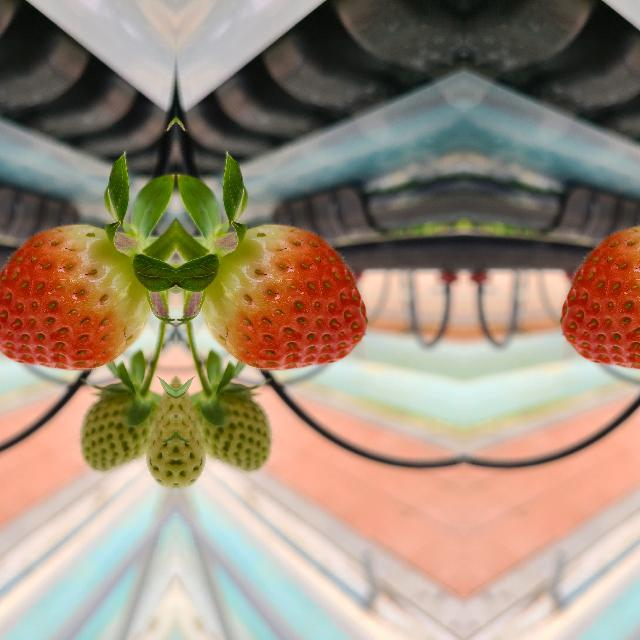Health_100: (200, 224, 368, 370), (0, 224, 149, 369), (558, 224, 640, 369)
Health_25: (188, 387, 270, 475), (80, 387, 162, 475)
